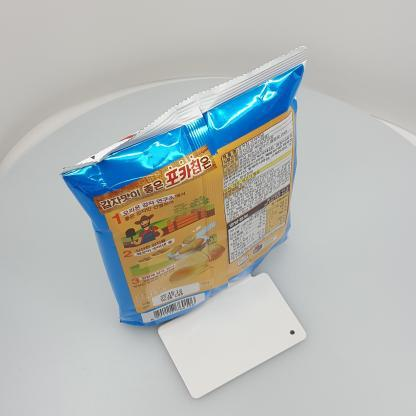Plastic Packaging: (48, 32, 326, 340)
